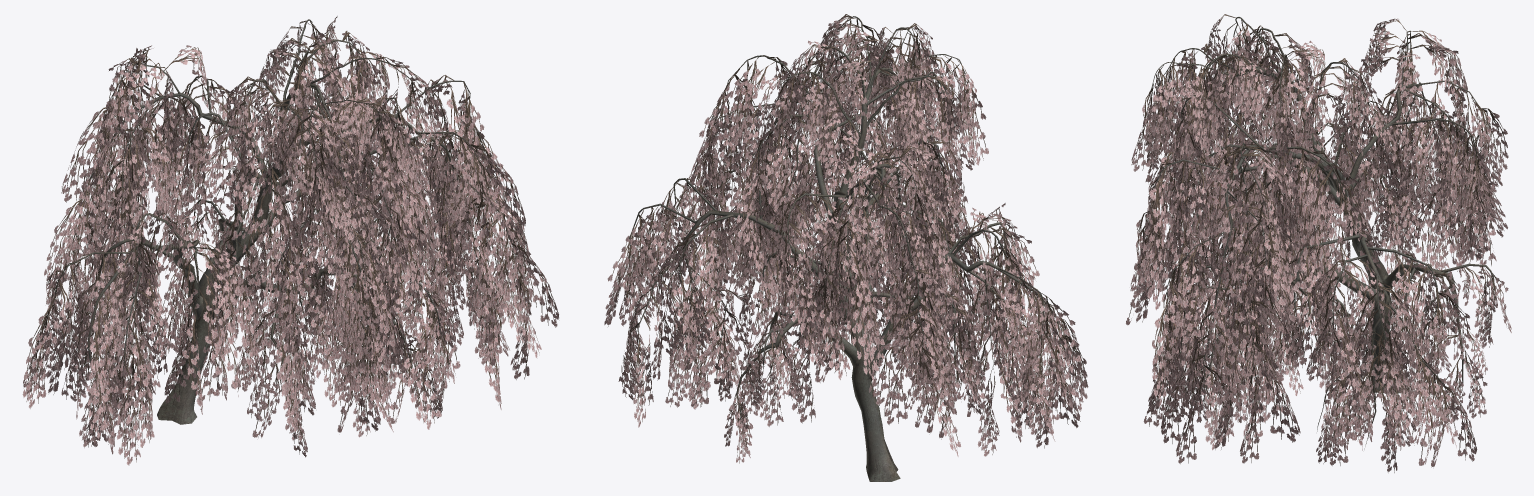
Rendered from SM_KYT_CherryTree01.fbx.
3 views of the same model, side by side, from view 1: azimuth 30°, elevation 25°; view 2: azimuth 150°, elevation 25°; view 3: azimuth 270°, elevation 25° (orthographic). The views are drawn at different scales.
Parts seen in each view (by area): view 1: SM_KYT_CherryTree01_LOD0; view 2: SM_KYT_CherryTree01_LOD0; view 3: SM_KYT_CherryTree01_LOD0.
Part boxes in pixels (<box>): SM_KYT_CherryTree01_LOD0: <box>22,16,558,465</box>; SM_KYT_CherryTree01_LOD0: <box>604,14,1088,481</box>; SM_KYT_CherryTree01_LOD0: <box>1126,14,1511,472</box>.
Size of the model in its own units: 1790 by 1297 by 1457.
2 materials, 2 textured.
